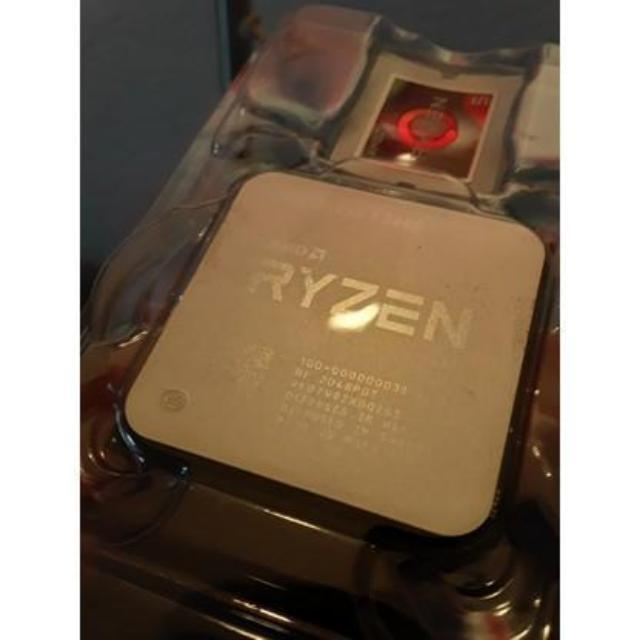CPU: (114, 168, 552, 536)
